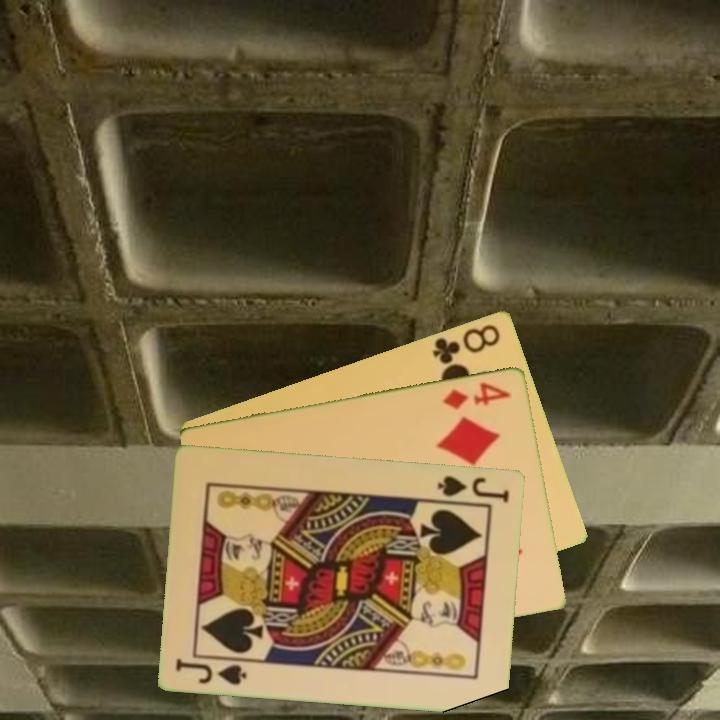4d: (439, 378, 514, 412)
8c: (429, 320, 504, 367)
Js: (173, 654, 251, 688), (434, 472, 513, 505)
